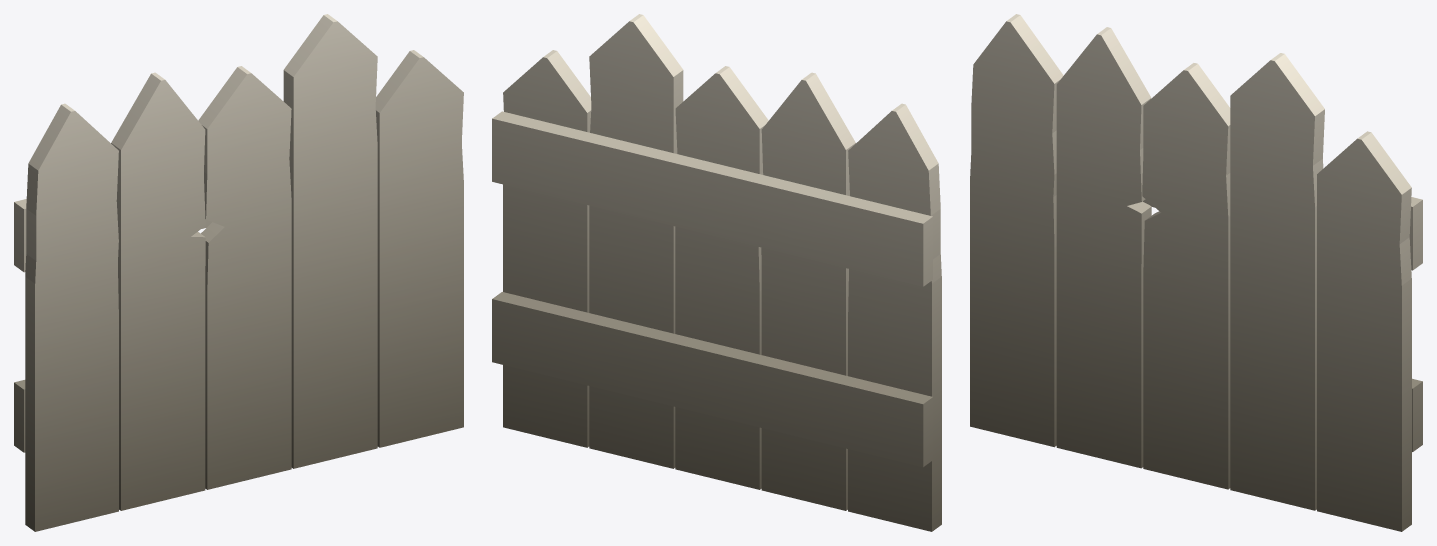
File: White4.glb
3 renders of one model, left to right at view 1: azimuth 30°, elevation 25°; view 2: azimuth 150°, elevation 25°; view 3: azimuth 330°, elevation 25°, orthographic.
Visible parts, largest first — view 1: White4.001; view 2: White4.001; view 3: White4.001.
Part boxes in pixels (<box>): White4.001: <box>14,14,463,531</box>; White4.001: <box>492,14,941,531</box>; White4.001: <box>970,14,1422,531</box>.
Size of the model in its own units: 10 by 9.68 by 0.8002.
Materials: 1 (1 with a texture image).
